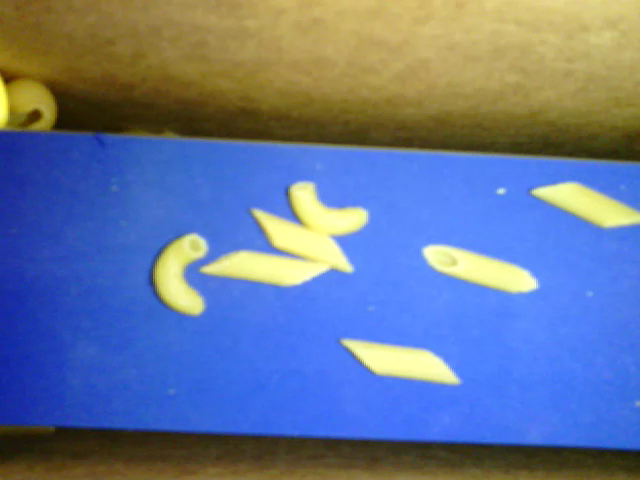elbow: (153, 229, 210, 315), (288, 180, 367, 231)
penne: (254, 207, 351, 273), (340, 337, 462, 388), (423, 243, 540, 293), (530, 180, 639, 231), (201, 249, 332, 287)
shell: (5, 75, 55, 136)
